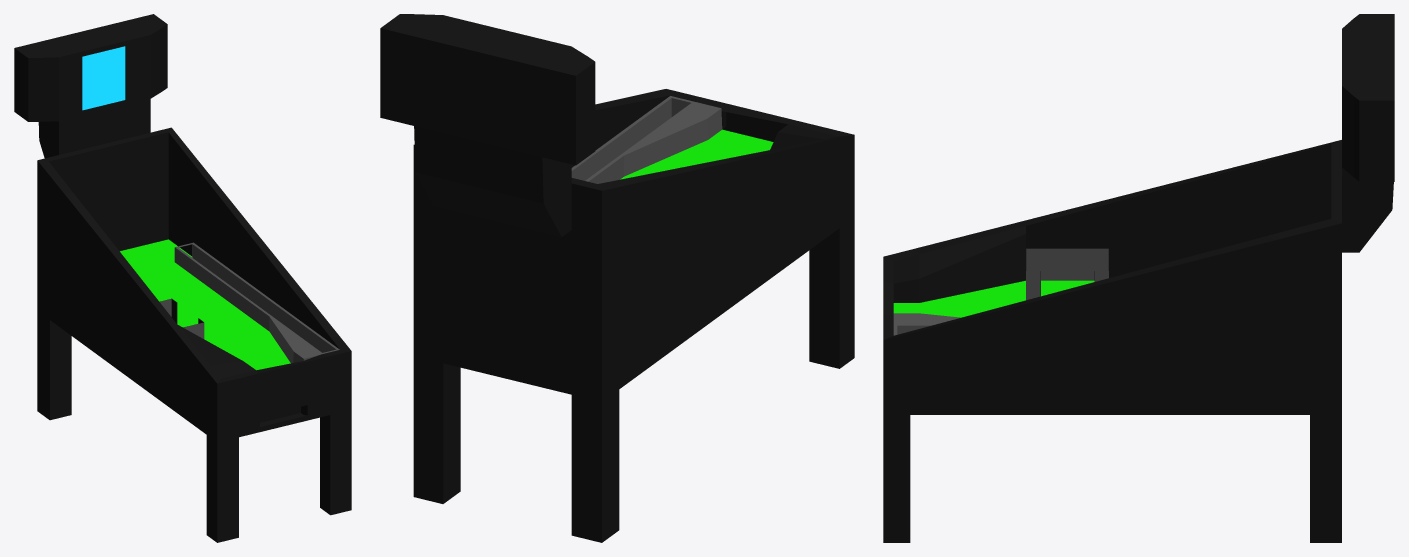
Rendered from FlipperKastNew.FBX.
3 views of the same model, side by side, from view 1: azimuth 30°, elevation 25°; view 2: azimuth 150°, elevation 25°; view 3: azimuth 270°, elevation 25° (orthographic). The views are drawn at different scales.
Parts seen in each view (by area): view 1: FlipperKast; view 2: FlipperKast; view 3: FlipperKast.
Part boxes in pixels (left/top/right/bottom): FlipperKast: left=14, top=14, right=351, bottom=542; FlipperKast: left=380, top=14, right=854, bottom=542; FlipperKast: left=883, top=14, right=1394, bottom=542.
Size of the model in its own units: 0.5812 by 1.39 by 1.45.
